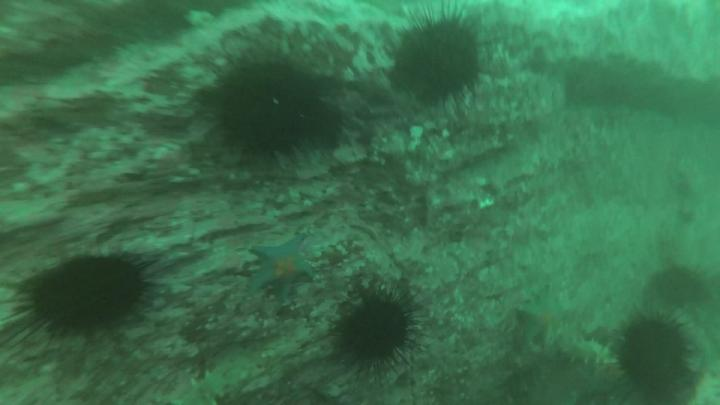echinus: (4, 247, 161, 361), (204, 55, 342, 172), (387, 3, 490, 111), (332, 280, 428, 378), (617, 311, 693, 397), (650, 261, 706, 313)
holothurian: (552, 328, 615, 375)
starfish: (241, 233, 319, 309)
